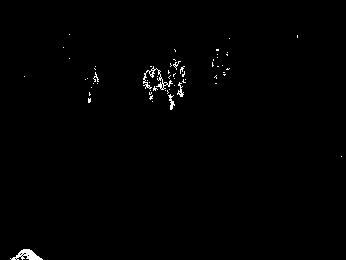person: (166, 57, 187, 112), (143, 63, 165, 103)
